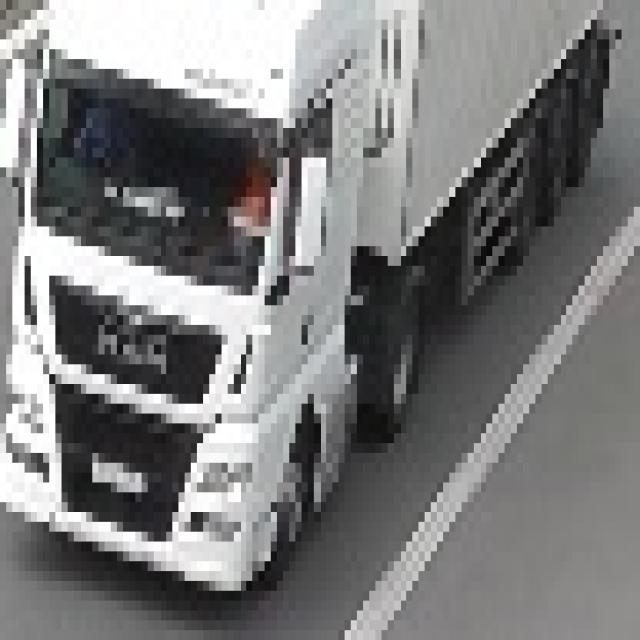TRUCK: (1, 4, 614, 605)
